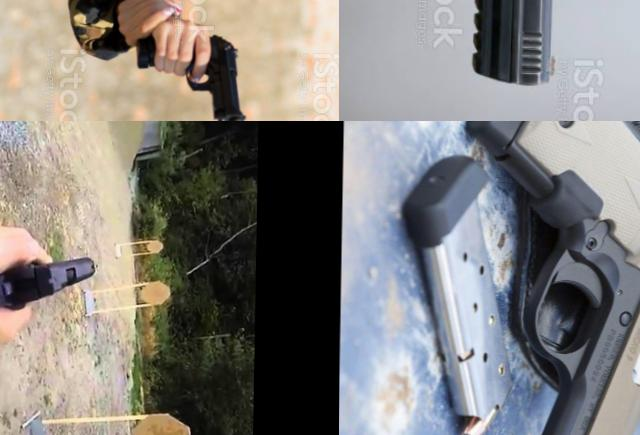handgun: (454, 121, 640, 435), (394, 0, 568, 121), (130, 31, 248, 121), (0, 248, 123, 317)
